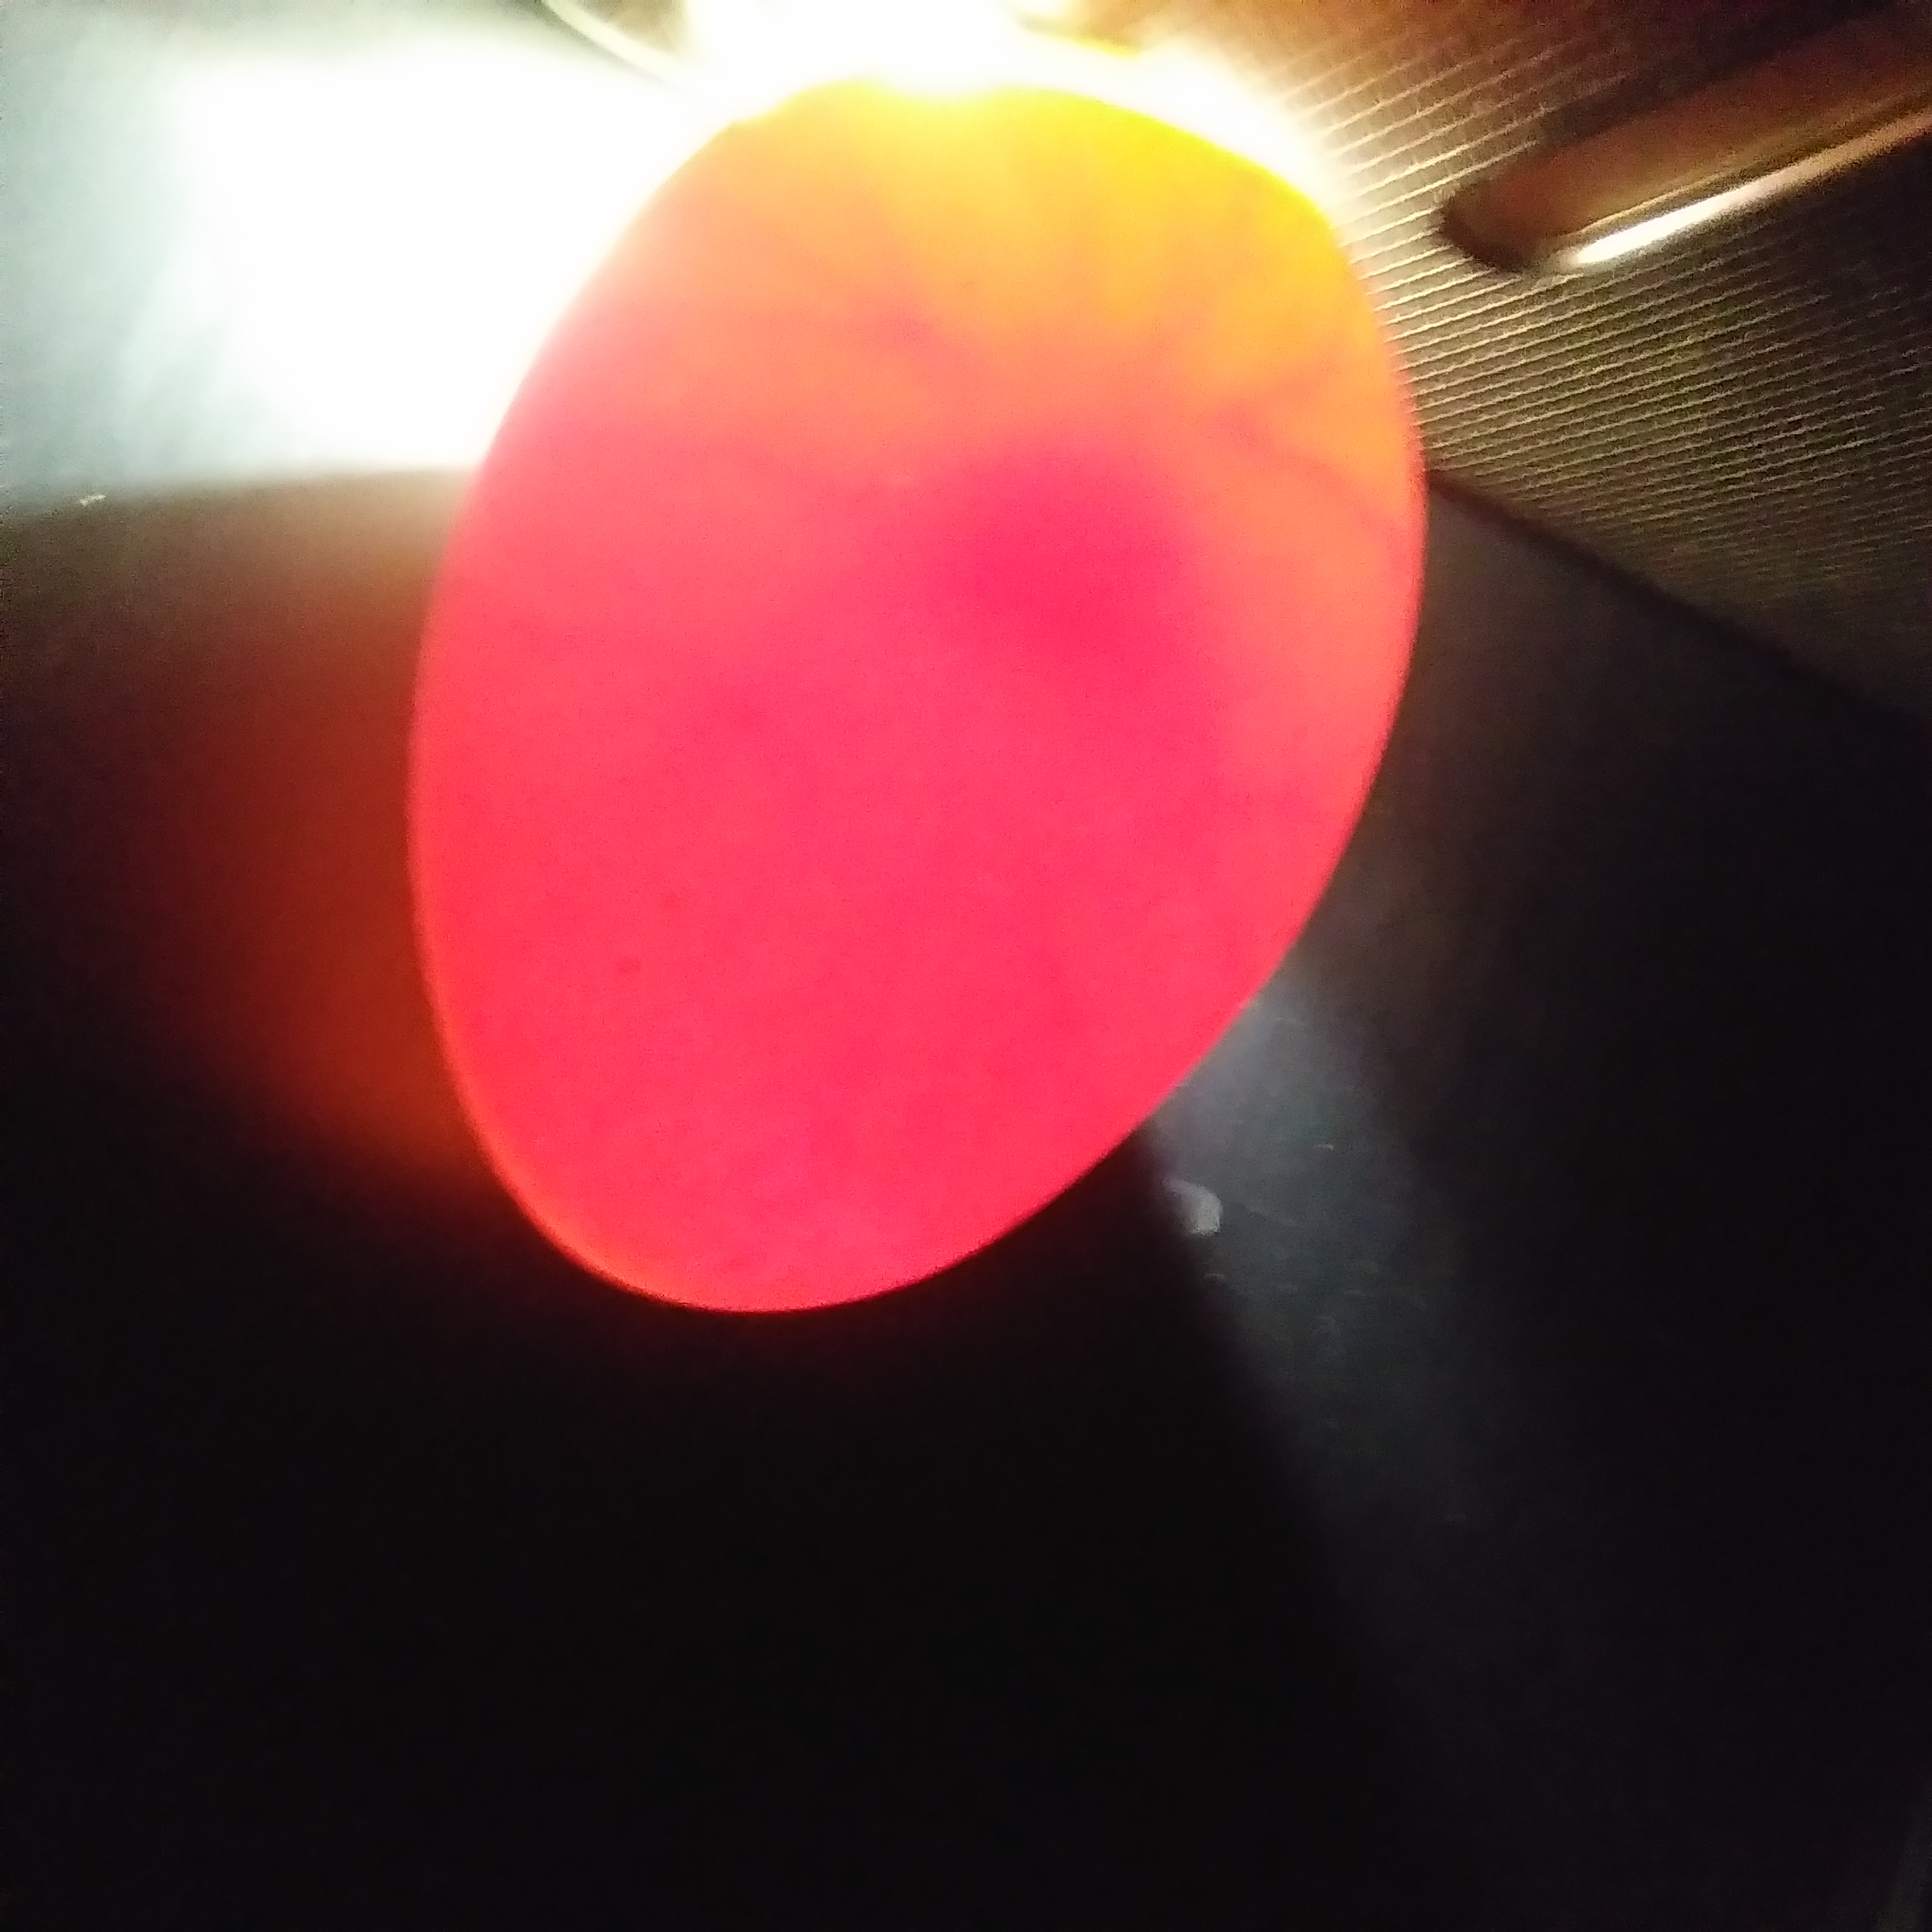bloodcell: (842, 218, 1327, 418)
